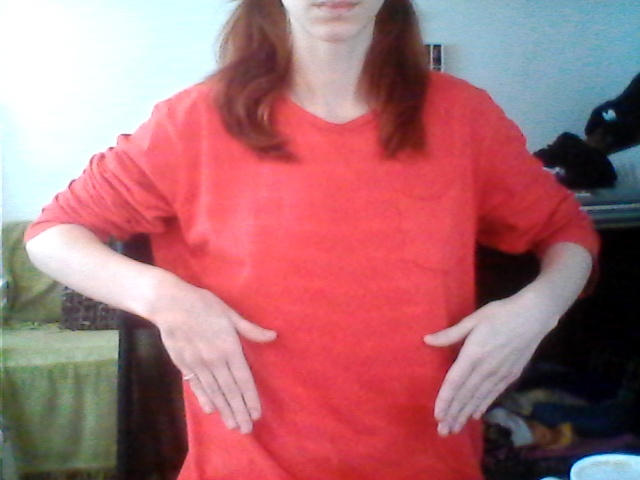zena: (161, 259, 530, 457)
